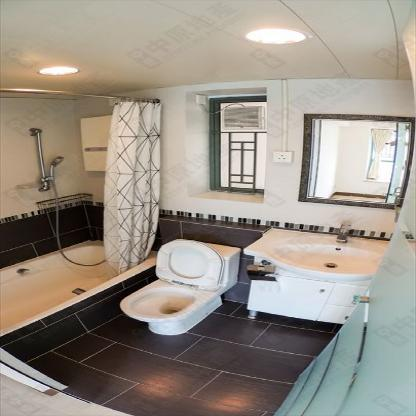Bathtub: (0, 239, 155, 357)
Exhaust Fan: (216, 104, 260, 129)
Faucet: (329, 217, 362, 244)
Toilet: (118, 238, 244, 336)
Toilet Sink: (240, 229, 390, 280)
Water Heater: (81, 113, 113, 173)
